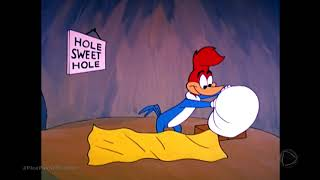picapau: (134, 32, 225, 148)
